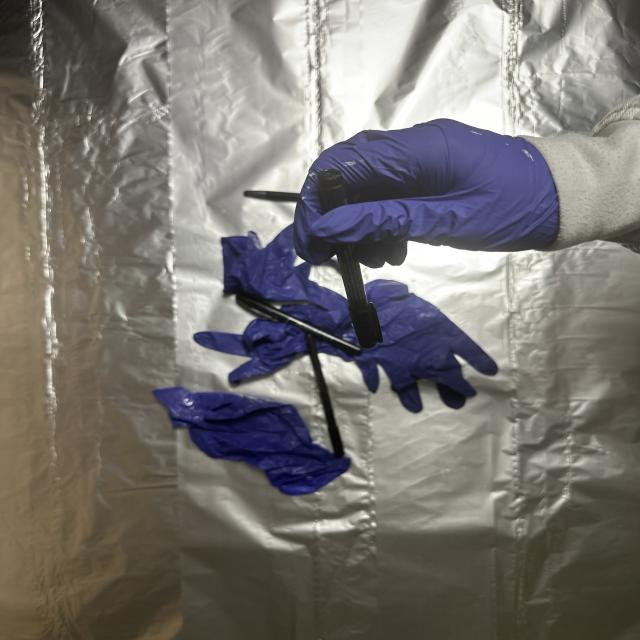gloves_contaminated: (294, 119, 560, 267)
